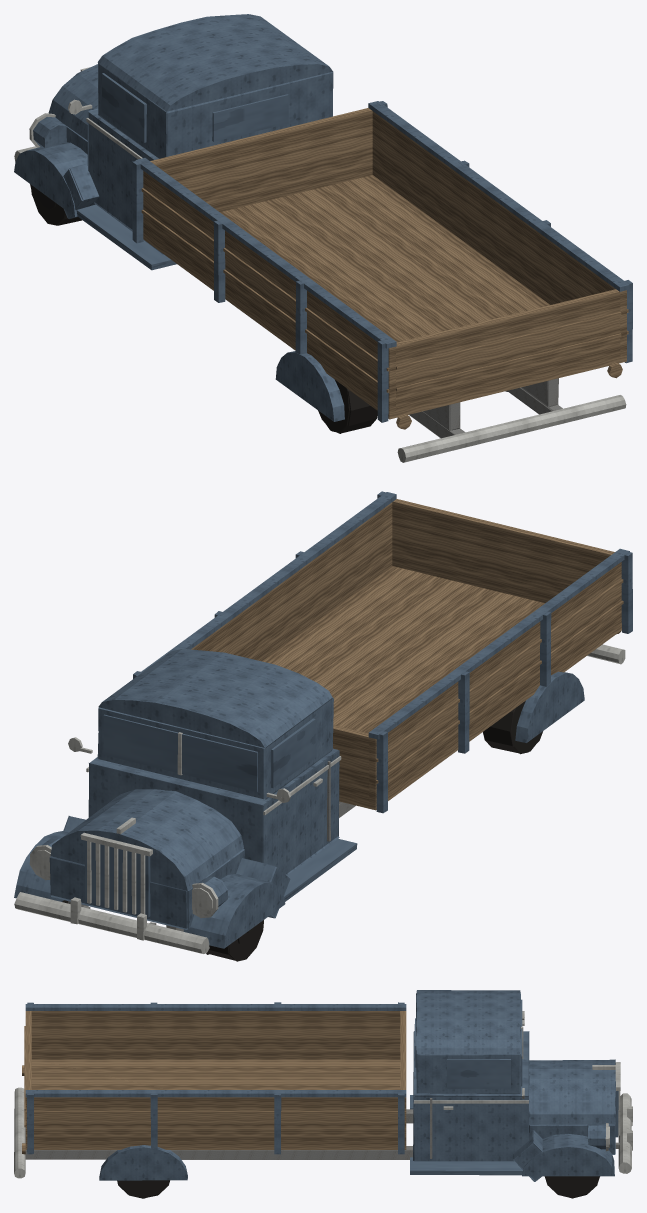
The model's file is old_bessie.glb.
3 renders of one model, top to bottom at view 1: azimuth 30°, elevation 25°; view 2: azimuth 150°, elevation 25°; view 3: azimuth 270°, elevation 25°, orthographic. The views are drawn at different scales.
Visible parts, largest first — view 1: OldBessie, Tailgate, Wheel_L2, Wheel_L1; view 2: OldBessie, Tailgate, Wheel_L2, Wheel_L1; view 3: OldBessie, Wheel_R1, Wheel_R2, Tailgate.
Part boxes in pixels (x1=…): OldBessie: x1=14, y1=14, x2=632, y2=462; Tailgate: x1=396, y1=289, x2=620, y2=410; Wheel_L2: x1=318, y1=380, x2=377, y2=433; Wheel_L1: x1=30, y1=184, x2=82, y2=225; OldBessie: x1=14, y1=491, x2=632, y2=953; Tailgate: x1=392, y1=499, x2=614, y2=603; Wheel_L2: x1=483, y1=700, x2=542, y2=754; Wheel_L1: x1=206, y1=920, x2=263, y2=961; OldBessie: x1=14, y1=990, x2=632, y2=1181; Wheel_R1: x1=544, y1=1176, x2=599, y2=1198; Wheel_R2: x1=117, y1=1180, x2=169, y2=1198; Tailgate: x1=25, y1=1011, x2=31, y2=1089.
Size of the model in its own units: 3.2 by 2.47 by 9.02.
Materials: 5 (4 with a texture image).
